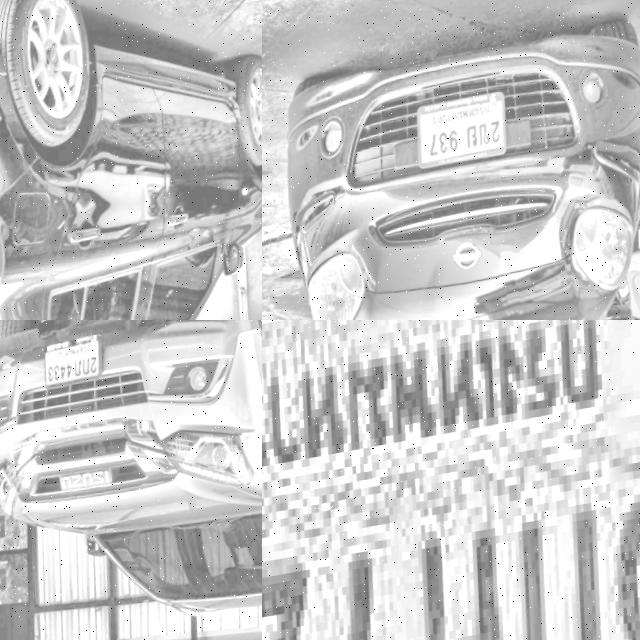license-plate: (262, 320, 640, 640), (412, 80, 520, 180), (40, 328, 114, 396)
